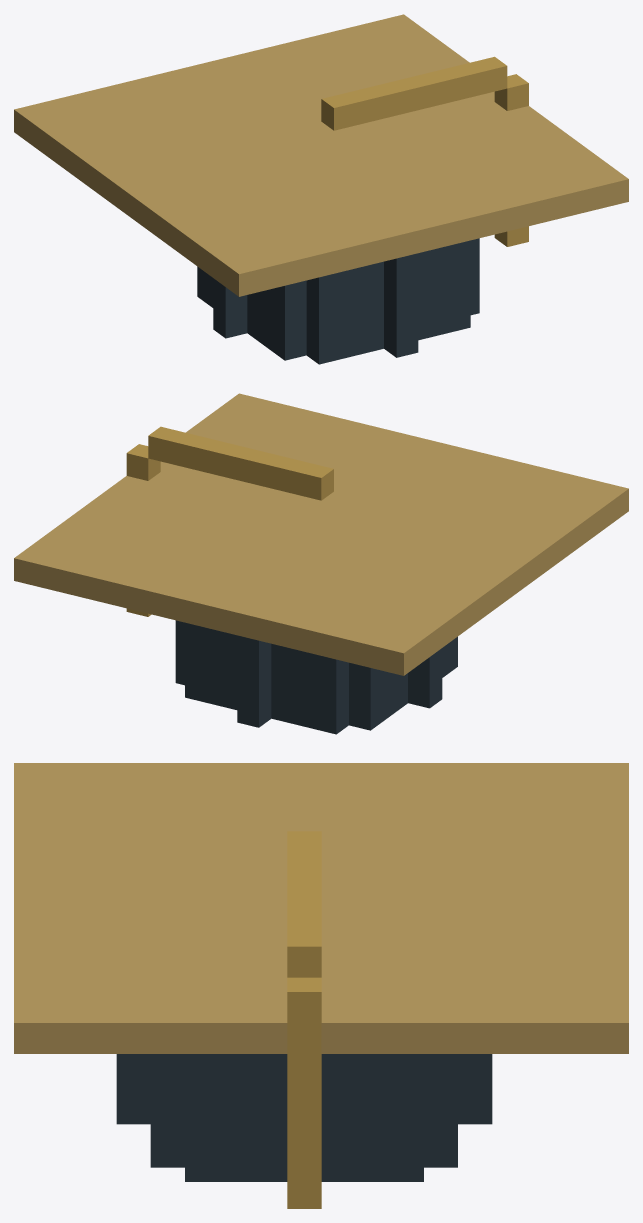
File: education-09.glb
3 renders of one model, top to bottom at view 1: azimuth 30°, elevation 25°; view 2: azimuth 150°, elevation 25°; view 3: azimuth 270°, elevation 25°, orthographic. The views are drawn at different scales.
Parts seen in each view (by area): view 1: Graduation cap; view 2: Graduation cap; view 3: Graduation cap.
Boxes of the visible parts, box(x1,y1,x2,y2) form: Graduation cap: box(14, 14, 628, 364); Graduation cap: box(14, 393, 628, 734); Graduation cap: box(14, 763, 628, 1208).
Bounding box in the file's own units: 1.44 × 0.72 × 1.44.
